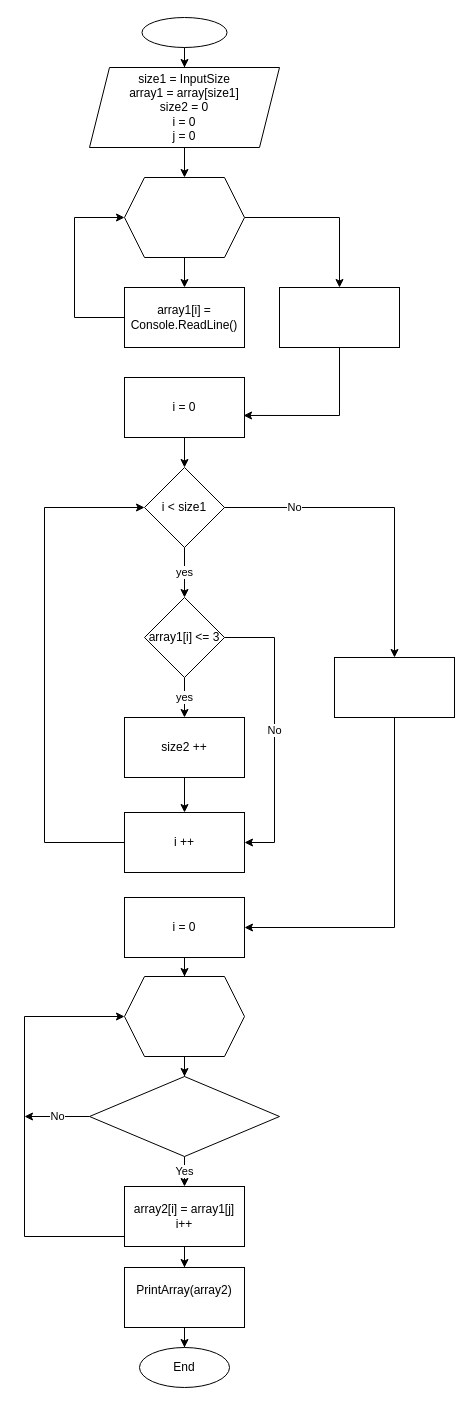
This 472x1405 diagram has some shape labels left out. The centre of each missing label's shape, as x and y in pixels:
array1[j].Length <= 3: the point at 184,1116
array2 = array[size2]: the point at 394,687
i = 0, array1.Length, i++: the point at 184,217
j = 0, array1.Length, j++: the point at 184,1016
PrintArray(array1): the point at 339,317
Start: the point at 184,32
